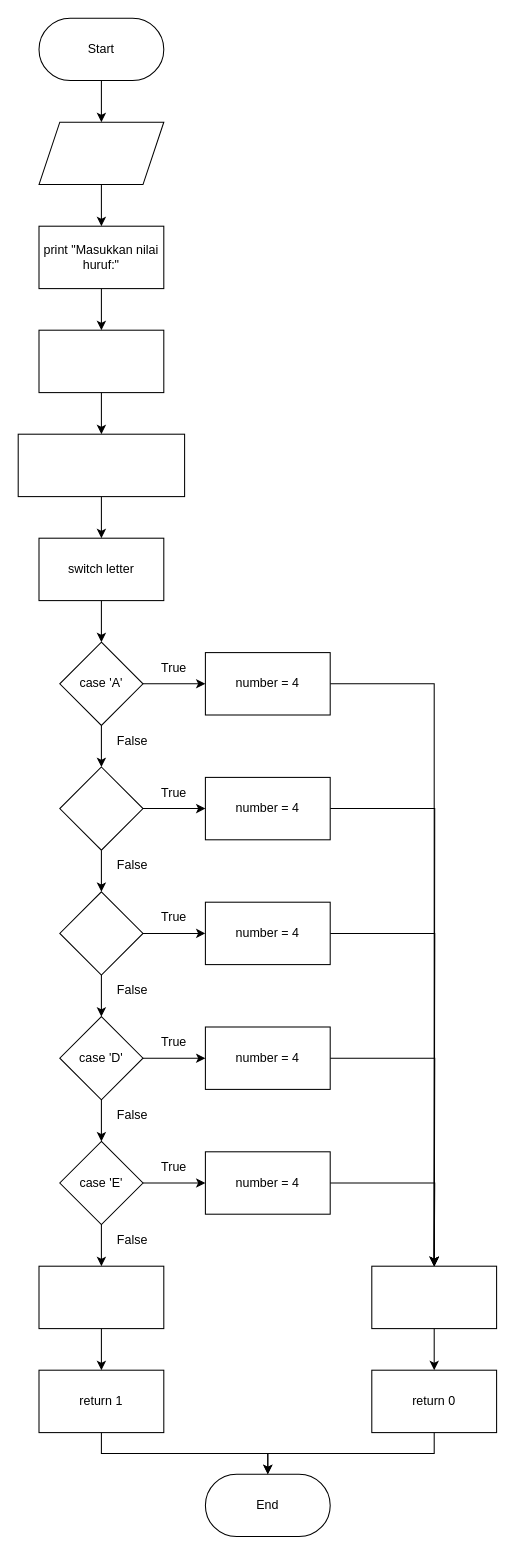
The diagram is 515 pixels wide and 1555 high, and some of its shapes have lost their labels. The shapes that lost their labels are listed below. From the top down, each one's centre as x and y in pixels, then its label:
[101,153]: char letter int number
[101,361]: input letter
[101,465]: if letter >= 'a' && letter <= 'z' letter = letter -32
[101,808]: case 'B'
[101,933]: case 'C'
[101,1297]: print "huruf yang anda masukkan salah"
[434,1297]: print number
